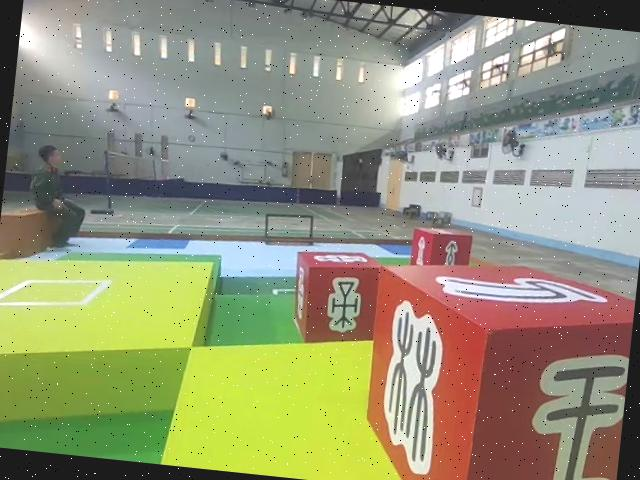R2 Fake: (354, 248, 638, 480)
R2 Real: (285, 244, 383, 353), (406, 224, 475, 277)
